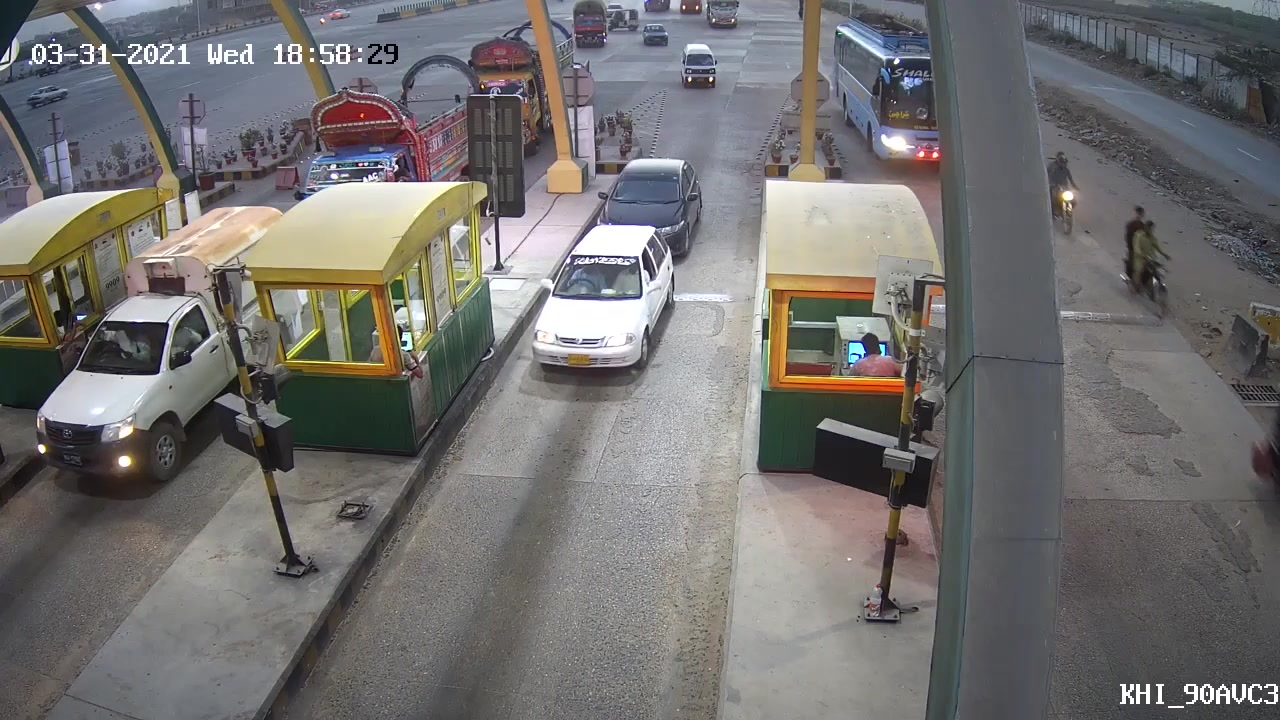F1: (517, 215, 682, 376)
